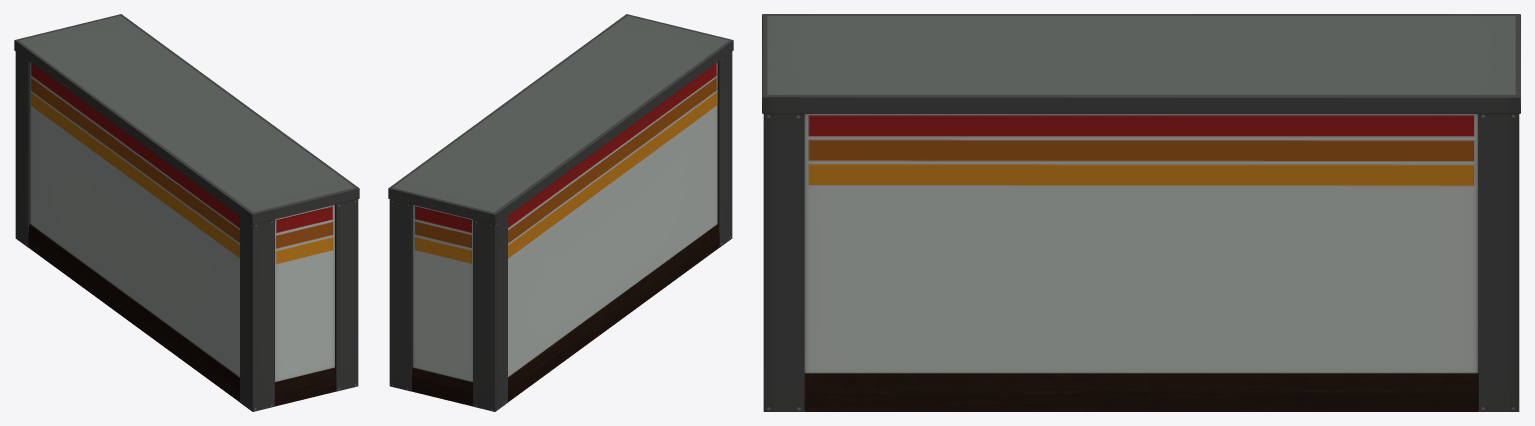
File: video_store_counter.fbx
The picture shows the model from 3 angles, left to right: view 1: azimuth 30°, elevation 25°; view 2: azimuth 150°, elevation 25°; view 3: azimuth 270°, elevation 25°; orthographic projection. The views are drawn at different scales.
Parts seen in each view (by area): view 1: Mesh4_Group2_Group1_Model; view 2: Mesh4_Group2_Group1_Model; view 3: Mesh4_Group2_Group1_Model.
Boxes of the visible parts, left/top/right/bottom form: Mesh4_Group2_Group1_Model: left=14, top=14, right=359, bottom=411; Mesh4_Group2_Group1_Model: left=388, top=14, right=733, bottom=411; Mesh4_Group2_Group1_Model: left=762, top=14, right=1520, bottom=411.
Size of the model in its own units: 58.06 by 102 by 223.
1 material, 1 textured.
